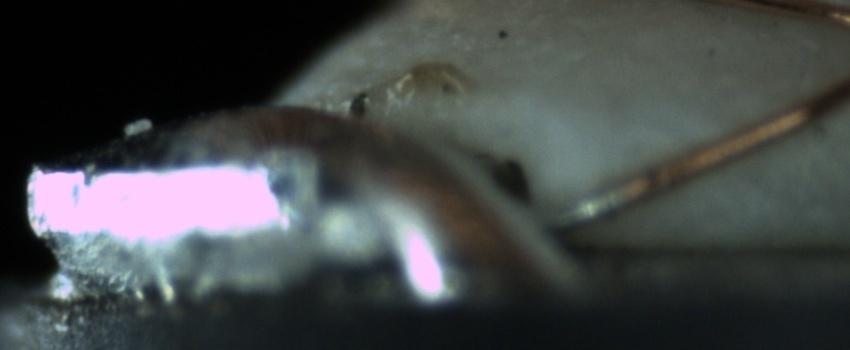TS: (545, 181, 627, 232)
